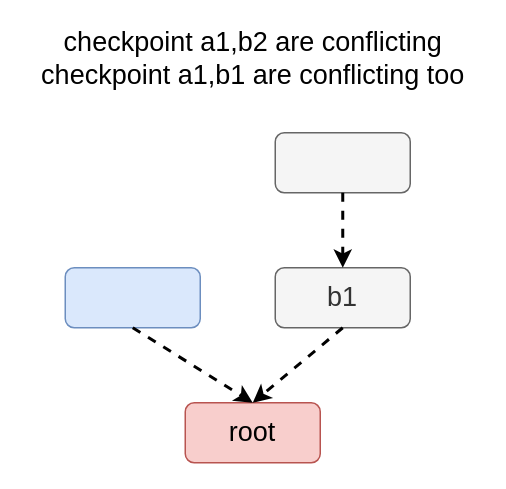
This 506x489 diagram has some shape labels left out. The shapes that lost their labels are listed below. From the top down, each one's centre as x and y in pixels, then its label:
At (342,162): "b2".
At (132,297): "a1".
